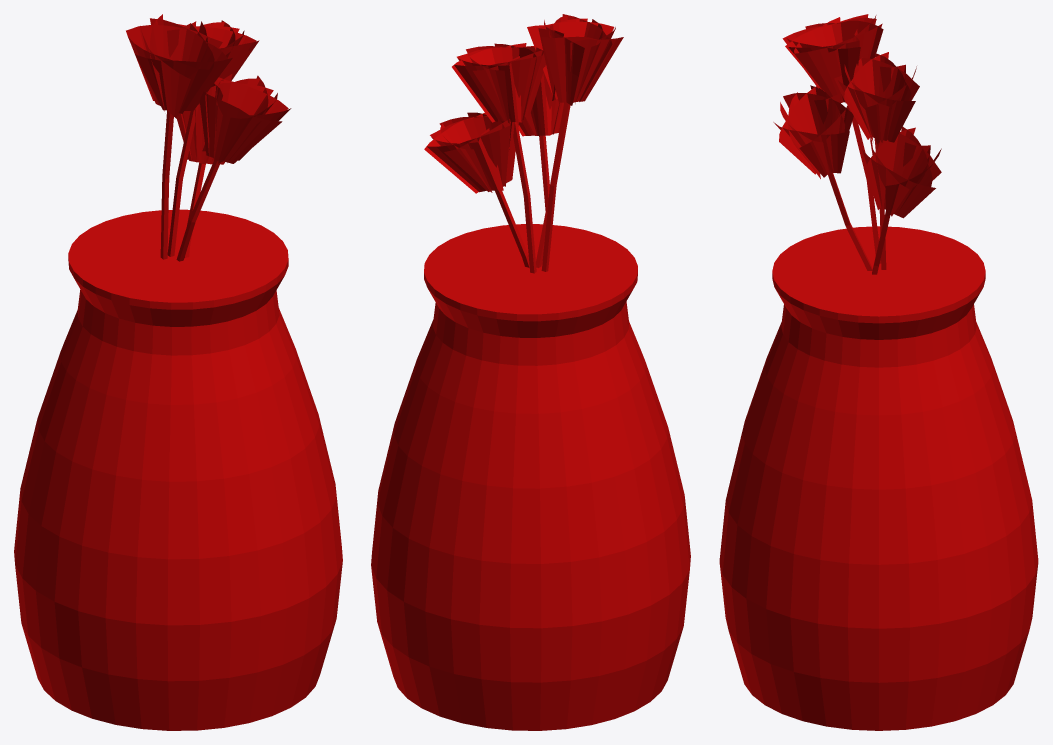
File: flowers.obj
3 views of the same model, side by side, from view 1: azimuth 30°, elevation 25°; view 2: azimuth 150°, elevation 25°; view 3: azimuth 270°, elevation 25° (orthographic). The views are drawn at different scales.
Parts seen in each view (by area): view 1: Flowers; view 2: Flowers; view 3: Flowers.
Part boxes in pixels (x1,y1,x2,y2): Flowers: (14, 14, 342, 730); Flowers: (371, 14, 690, 730); Flowers: (719, 14, 1038, 730).
Size of the model in its own units: 2.32 by 5.12 by 2.32.
